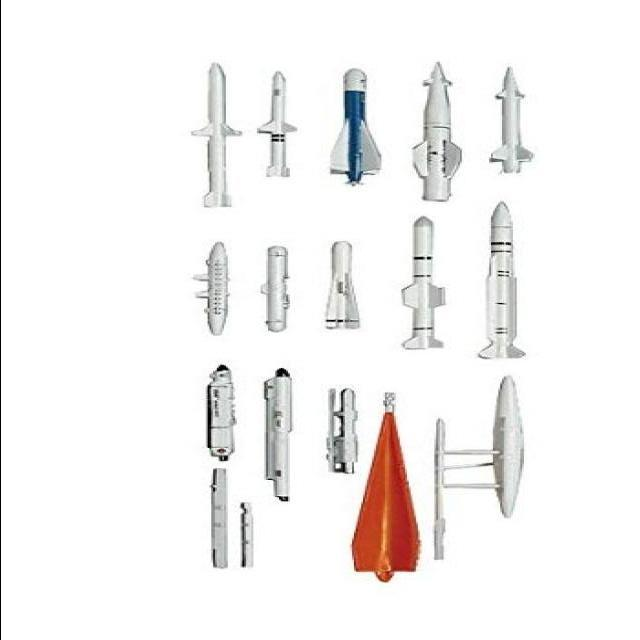missile: (192, 58, 254, 211), (391, 217, 455, 357), (252, 68, 311, 188), (485, 60, 541, 180), (261, 244, 292, 336)
